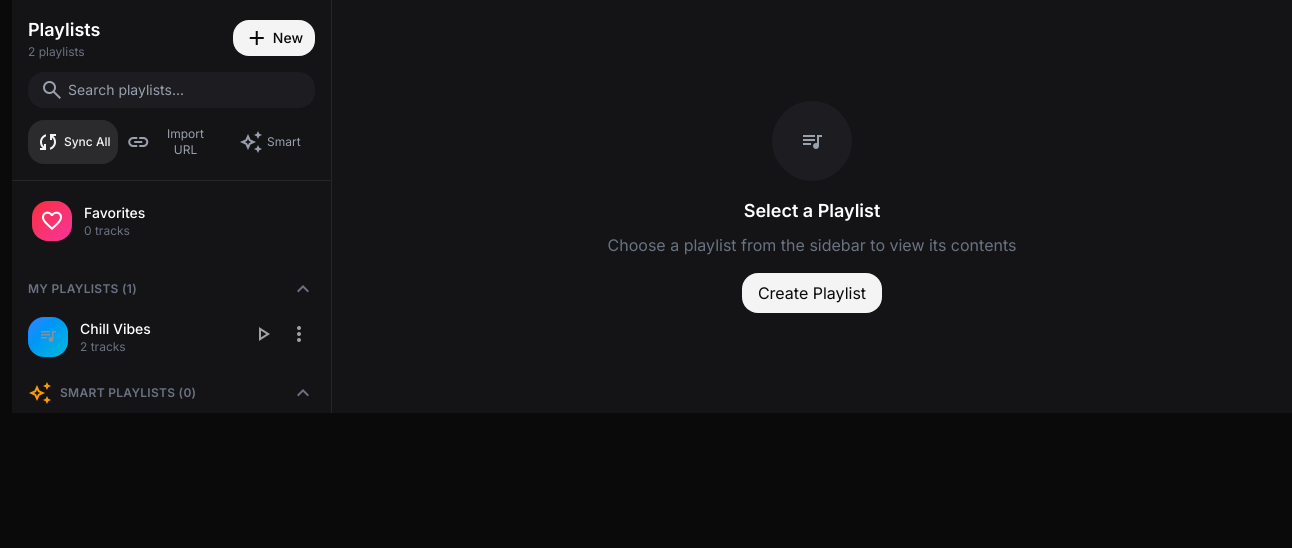
Scenario: PlaylistView — estados de carga y error (auditoría 5) › un fallo de carga muestra un error reintentable, no una lista vacía
Click the element showing "Chill Vibes 2 tracks". click: (48, 337)
box: left=20, top=309, right=323, bottom=365
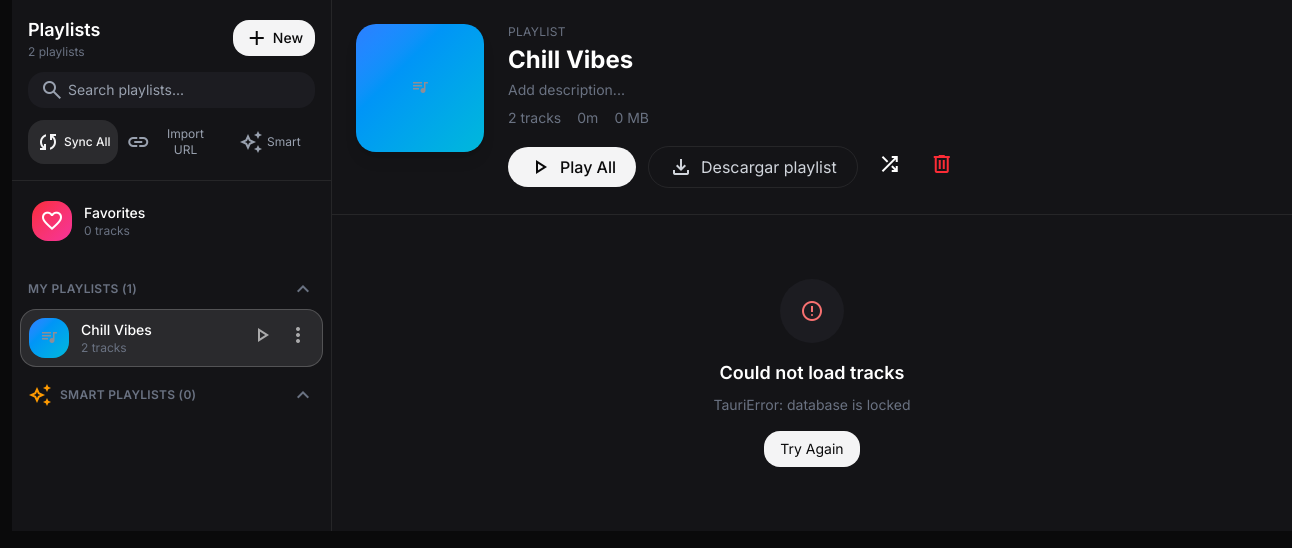
expect the element with test id "playlist-tracks-error" is shown: met, box left=713, top=279, right=910, bottom=467
expect the element with test id "playlist-tracks-error" shows "database is locked": met, box left=713, top=396, right=910, bottom=413
Click the button "Try Again". click: (812, 449)
box: left=764, top=431, right=860, bottom=467
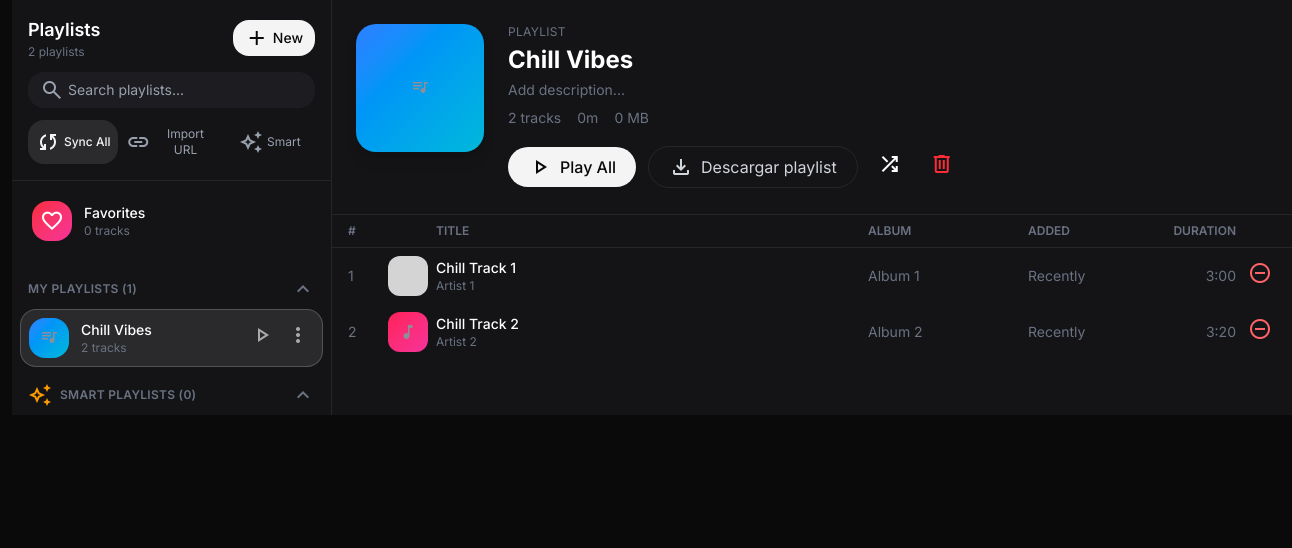
expect the number of elements with class "track-row" is 2: met, box left=332, top=248, right=1291, bottom=304; left=332, top=304, right=1291, bottom=360
